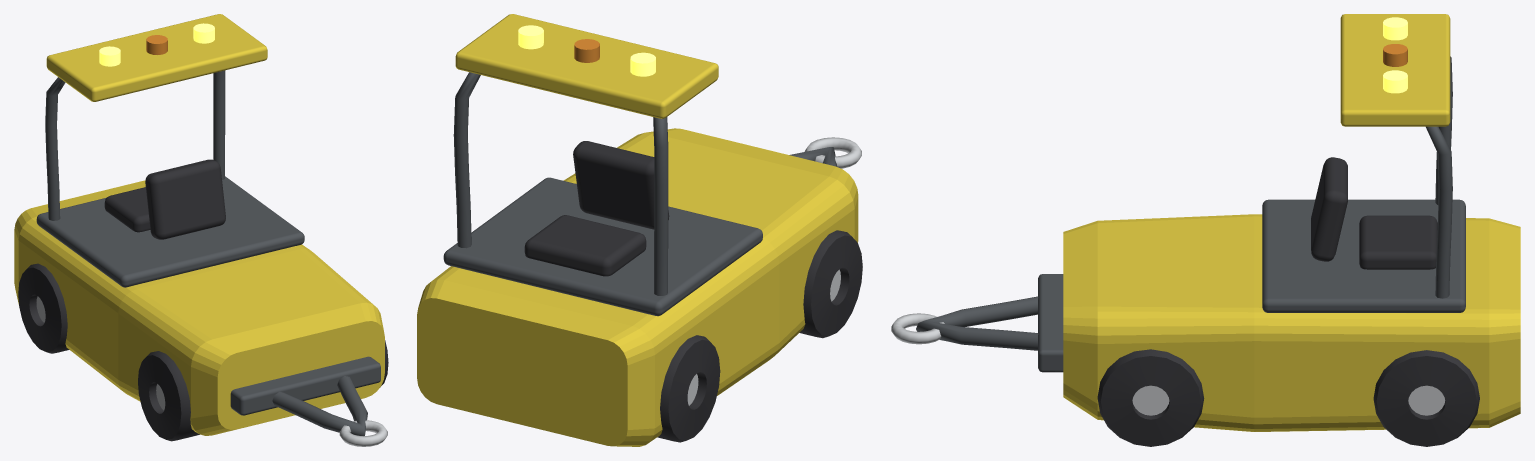
File: battle-royale-town-and-airfield-aircraft-tug-8e9cf281__28254.glb
The picture shows the model from 3 angles, left to right: view 1: azimuth 30°, elevation 25°; view 2: azimuth 150°, elevation 25°; view 3: azimuth 270°, elevation 25°; orthographic projection. The views are drawn at different scales.
Visible parts, largest first — view 1: aircraft-tug; view 2: aircraft-tug; view 3: aircraft-tug.
Boxes of the visible parts, left/top/right/bottom form: aircraft-tug: left=14, top=14, right=388, bottom=446; aircraft-tug: left=417, top=14, right=862, bottom=446; aircraft-tug: left=891, top=14, right=1520, bottom=446.
Size of the model in its own units: 1.8 by 2.41 by 4.02.
